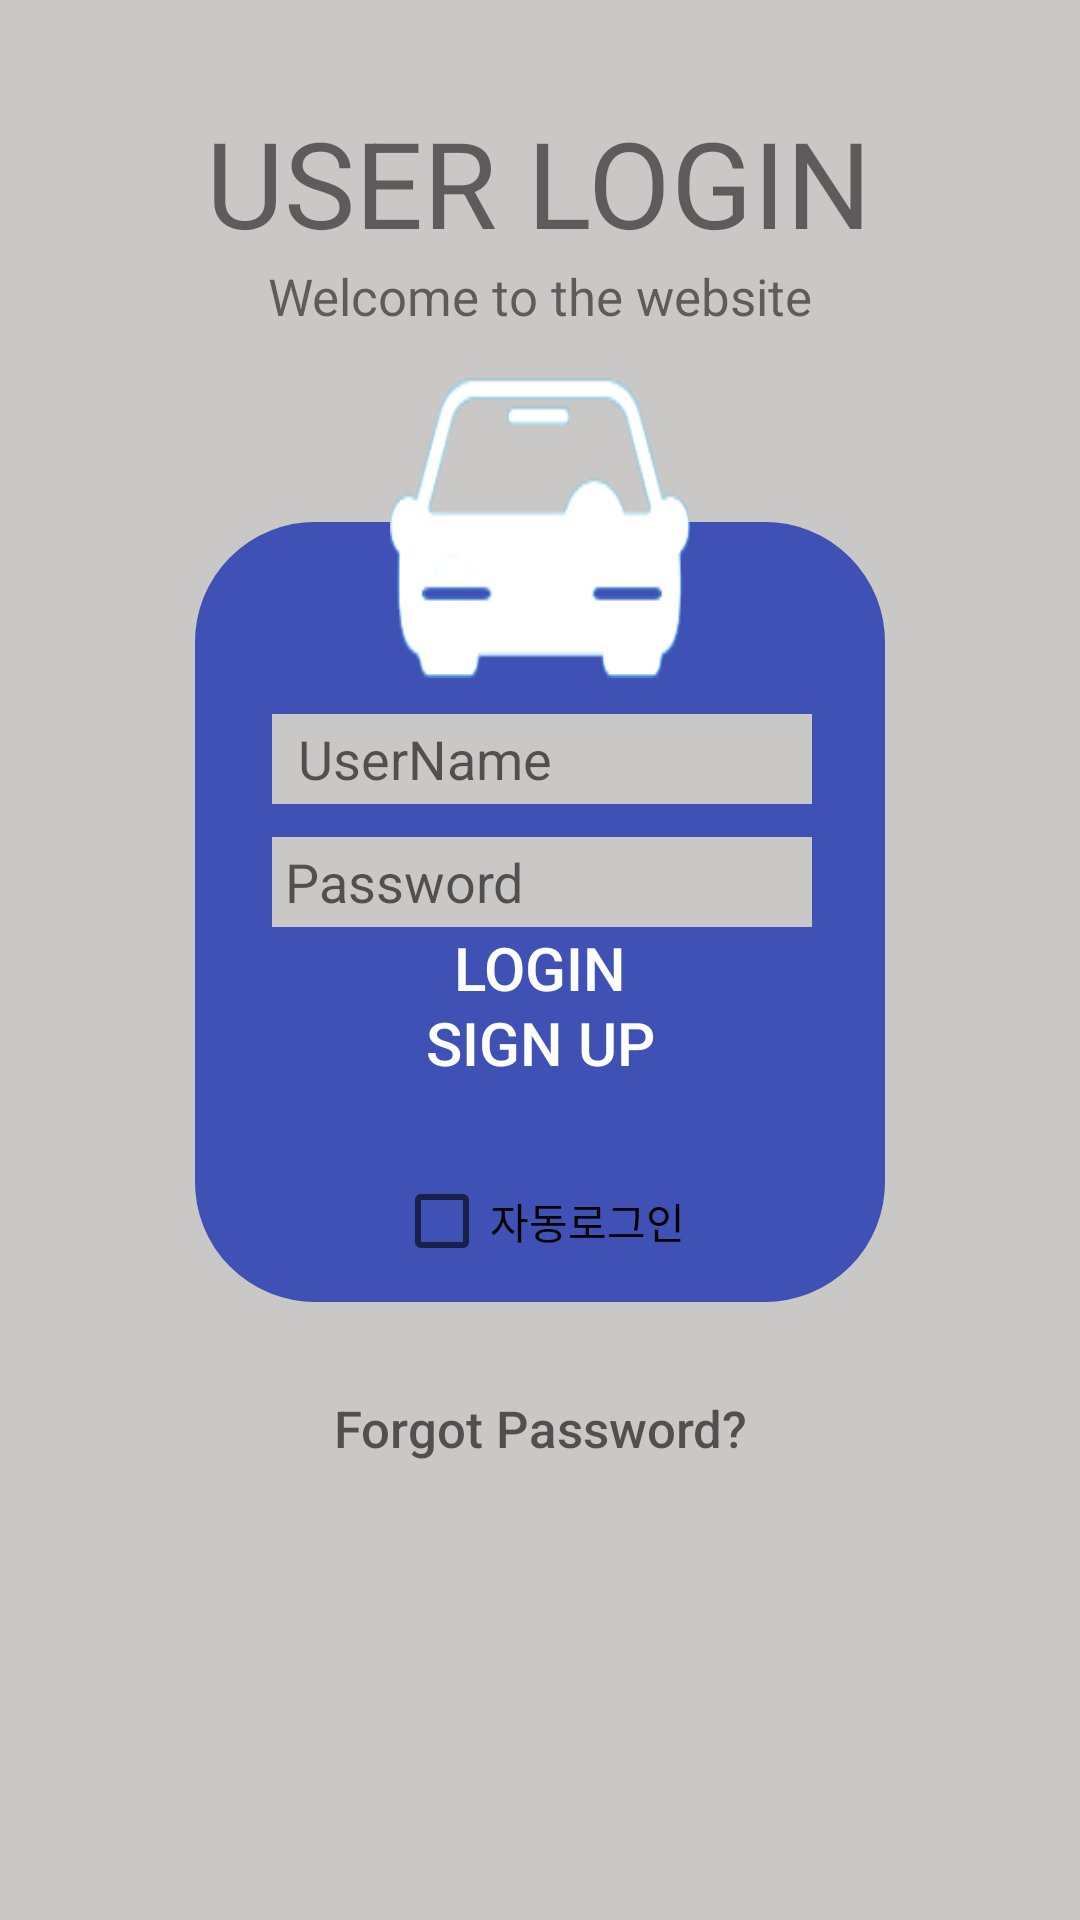

Icons on this 1080px x 1920px Android screen, each with the point to tap as (x=x, y=y):
car: (x=540, y=528)
